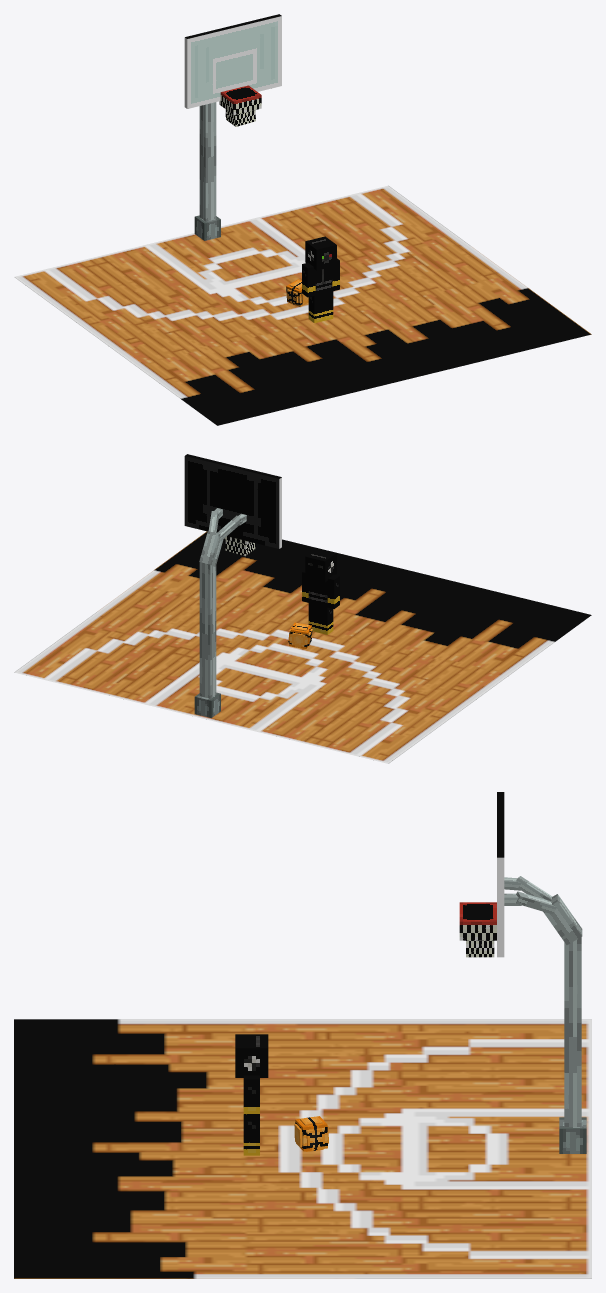
File: Basketball_scene.glb
The picture shows the model from 3 angles, top to bottom: view 1: azimuth 30°, elevation 25°; view 2: azimuth 150°, elevation 25°; view 3: azimuth 270°, elevation 25°; orthographic projection. The views are drawn at different scales.
Visible parts, largest first — view 1: unnamed (×6); view 2: unnamed (×9); view 3: unnamed (×8).
Boxes of the visible parts, bbox=[...] form: unnamed (×6): bbox=[14, 14, 591, 425]; unnamed (×9): bbox=[14, 454, 591, 763]; unnamed (×8): bbox=[14, 792, 591, 1278].
Bounding box in the file's own units: 10.5 × 6.13 × 9.87.
4 materials, 4 textured.
